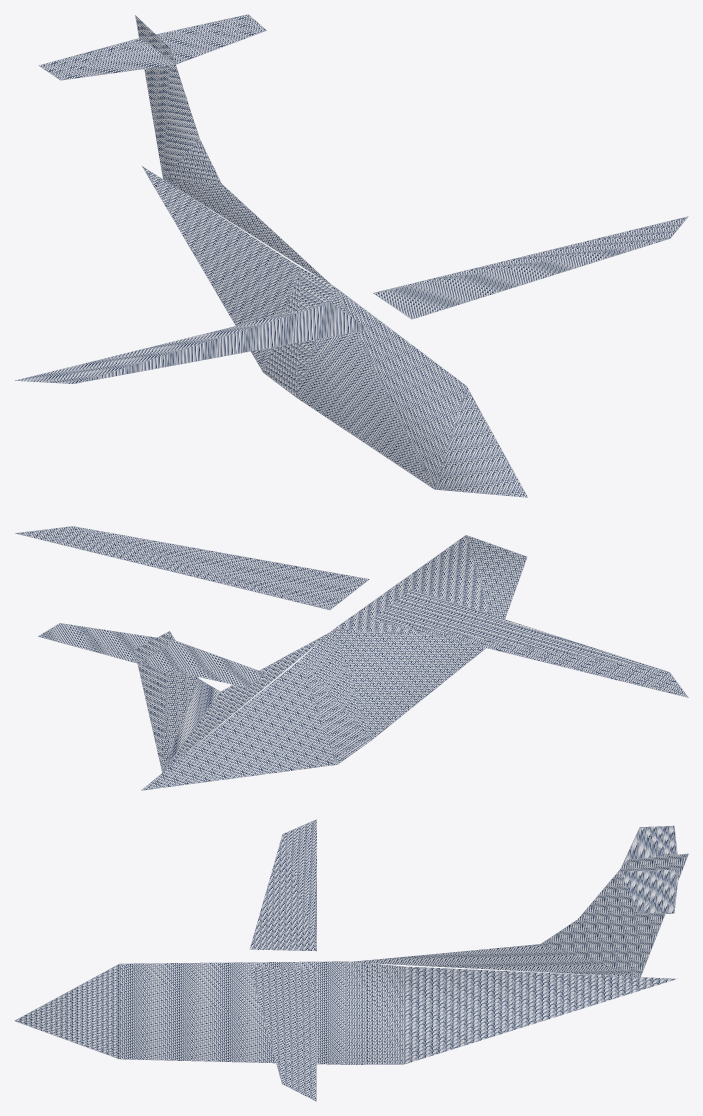
Rendered from AIG_Do_328J_MSFS_LOD1.gltf.
The picture shows the model from 3 angles, top to bottom: view 1: azimuth 30°, elevation 25°; view 2: azimuth 150°, elevation 25°; view 3: azimuth 270°, elevation 25°; orthographic projection. The views are drawn at different scales.
Visible parts, largest first — view 1: node1; view 2: node1; view 3: node1.
Boxes of the visible parts, bbox=[...] form: node1: bbox=[15, 14, 688, 497]; node1: bbox=[15, 526, 688, 790]; node1: bbox=[14, 819, 688, 1101].
Size of the model in its own units: 21.1 by 6.82 by 21.3.
